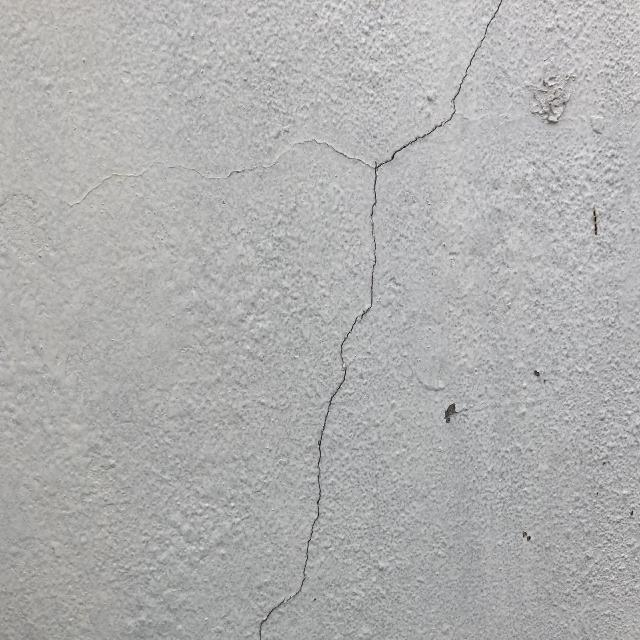SurfaceCrack: (220, 0, 414, 640)
